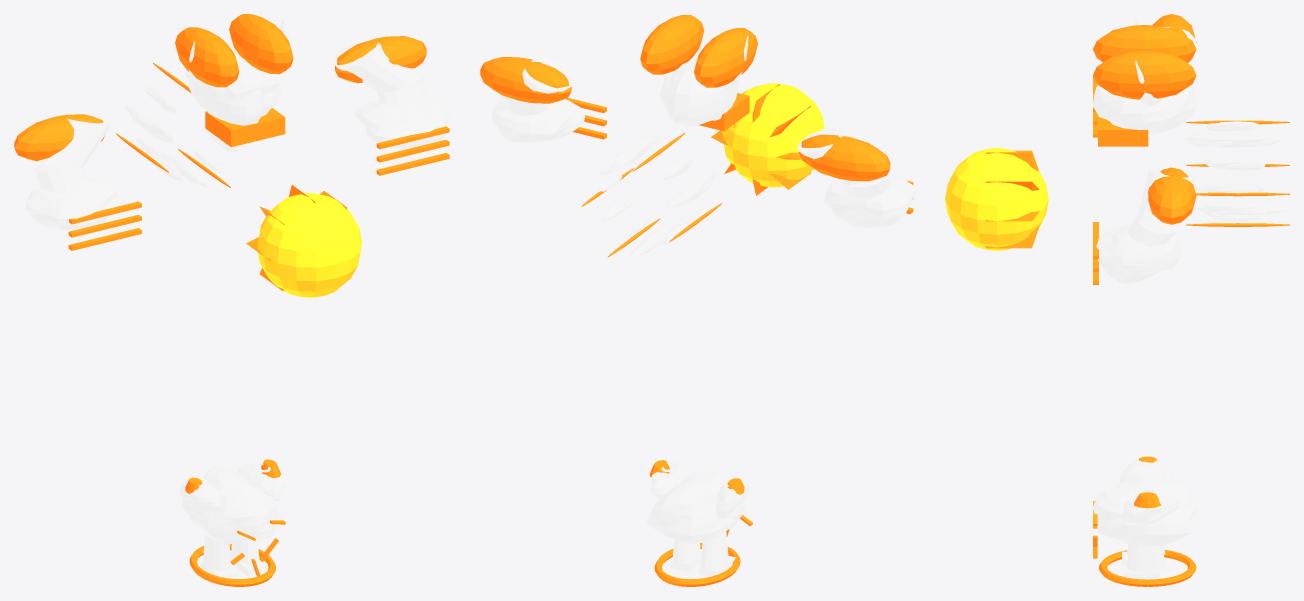
The model's file is krakor-v5.glb.
The picture shows the model from 3 angles, left to right: view 1: azimuth 30°, elevation 25°; view 2: azimuth 150°, elevation 25°; view 3: azimuth 270°, elevation 25°; orthographic projection.
Parts seen in each view (by area): view 1: boss_coeur.008, boss_corps.005, lueur_boss_tete.005, boss_bras_d.005, boss_bras_g.005, boss_tete.008, lueur_boss_bras_g.001, lueur_boss_bras_d.001, boss_halo.008, lueur_boss_corps.001, lueur_boss_halo.005; view 2: boss_corps.005, boss_coeur.008, lueur_boss_tete.005, boss_bras_g.005, boss_halo.008, boss_bras_d.005, lueur_boss_bras_d.001, boss_tete.008, lueur_boss_bras_g.001, lueur_boss_corps.001, lueur_boss_halo.005; view 3: boss_coeur.008, boss_corps.005, lueur_boss_tete.005, boss_bras_d.005, boss_halo.008, boss_tete.008, lueur_boss_bras_d.001, lueur_boss_corps.001, lueur_boss_halo.005, lueur_boss_bras_g.001.
Boxes of the visible parts, x1,y1,x2,y2 form: boss_coeur.008: [246, 185, 361, 297]; boss_corps.005: [179, 462, 285, 578]; lueur_boss_tete.005: [175, 14, 293, 147]; boss_bras_d.005: [332, 39, 451, 149]; boss_bras_g.005: [24, 113, 118, 230]; boss_tete.008: [188, 19, 283, 125]; lueur_boss_bras_g.001: [14, 114, 141, 250]; lueur_boss_bras_d.001: [335, 36, 449, 175]; boss_halo.008: [125, 71, 239, 187]; lueur_boss_corps.001: [185, 459, 285, 586]; lueur_boss_halo.005: [116, 63, 230, 187]; boss_corps.005: [646, 461, 748, 576]; boss_coeur.008: [711, 83, 824, 195]; lueur_boss_tete.005: [640, 15, 757, 131]; boss_bras_g.005: [797, 128, 916, 227]; boss_halo.008: [598, 129, 716, 257]; boss_bras_d.005: [492, 59, 584, 142]; lueur_boss_bras_d.001: [480, 57, 606, 139]; boss_tete.008: [655, 14, 748, 126]; lueur_boss_bras_g.001: [799, 134, 913, 214]; lueur_boss_corps.001: [649, 460, 752, 586]; lueur_boss_halo.005: [581, 133, 721, 257]; boss_coeur.008: [945, 148, 1048, 250]; boss_corps.005: [1093, 459, 1196, 579]; lueur_boss_tete.005: [1093, 25, 1196, 146]; boss_bras_d.005: [1096, 168, 1196, 283]; boss_halo.008: [1186, 118, 1289, 221]; boss_tete.008: [1093, 18, 1196, 134]; lueur_boss_bras_d.001: [1093, 167, 1196, 284]; lueur_boss_corps.001: [1093, 456, 1196, 586]; lueur_boss_halo.005: [1186, 120, 1289, 226]; lueur_boss_bras_g.001: [1093, 14, 1196, 137].
Bounding box in the file's own units: 9 × 11.3 × 6.65.
